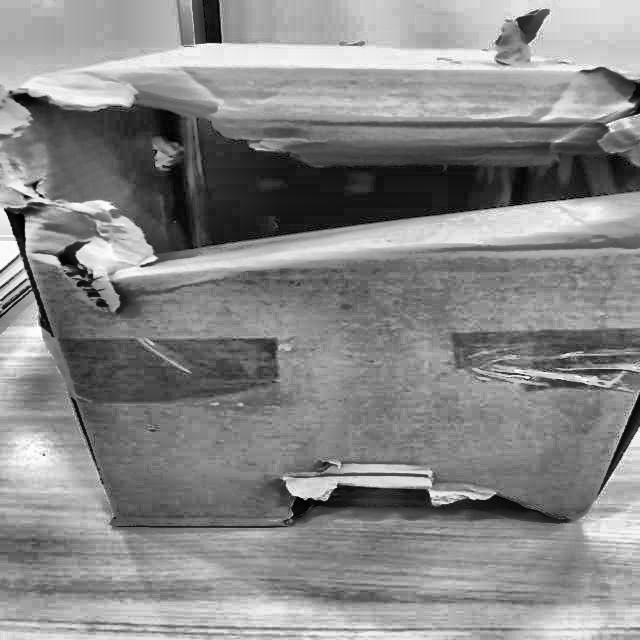box: (0, 29, 639, 527)
hole: (3, 92, 639, 252), (273, 463, 572, 521)
